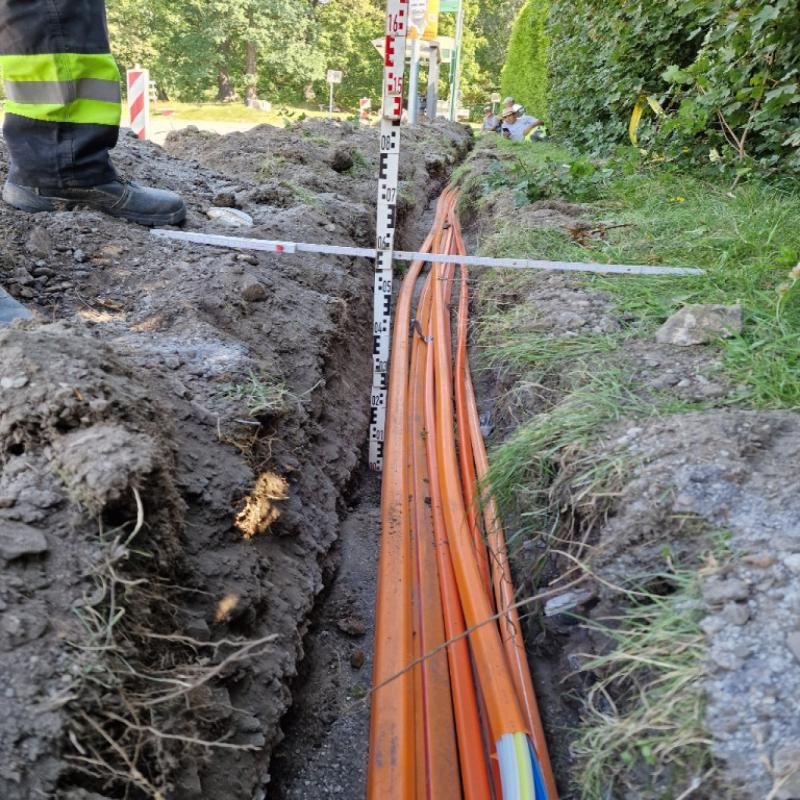Orang-Speednetrohrchen: (373, 278, 555, 799)
